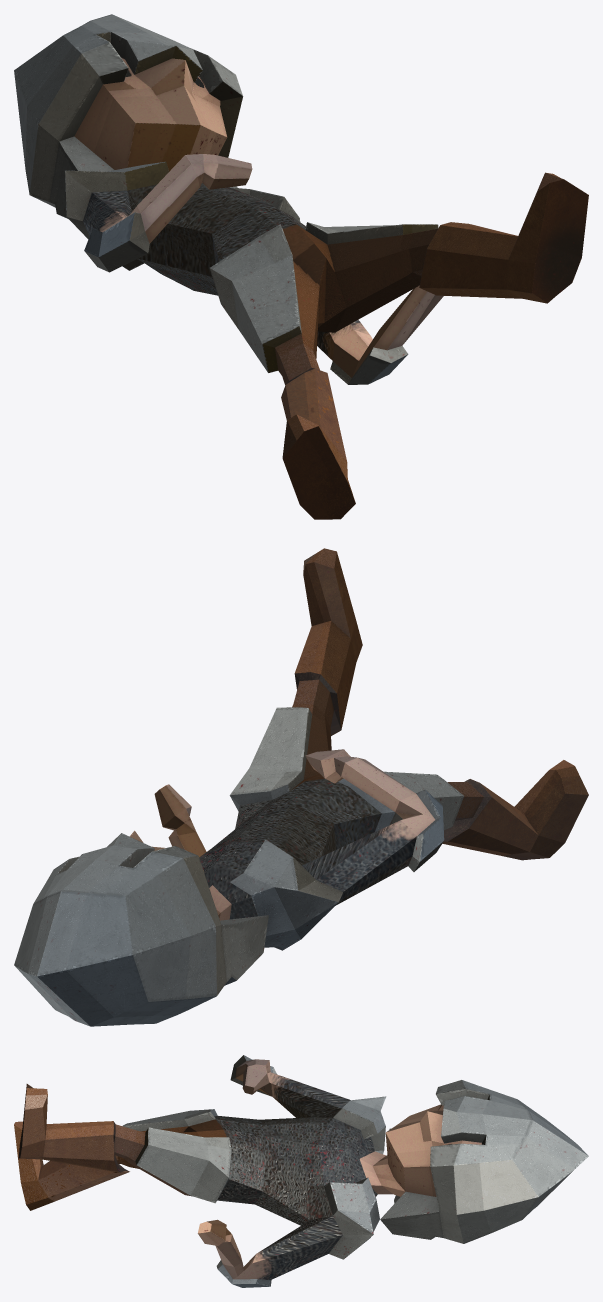
The model's file is Walk_Soldier_16.obj.
3 renders of one model, top to bottom at view 1: azimuth 30°, elevation 25°; view 2: azimuth 150°, elevation 25°; view 3: azimuth 270°, elevation 25°, orthographic. The views are drawn at different scales.
Visible parts, largest first — view 1: Soldado_LowPolySTD; view 2: Soldado_LowPolySTD; view 3: Soldado_LowPolySTD.
Boxes of the visible parts, box(x1,y1,x2,y2) form: Soldado_LowPolySTD: box(14, 14, 588, 519); Soldado_LowPolySTD: box(14, 548, 588, 1026); Soldado_LowPolySTD: box(14, 1055, 588, 1287).
Size of the model in its own units: 0.762 by 0.6457 by 1.58.
